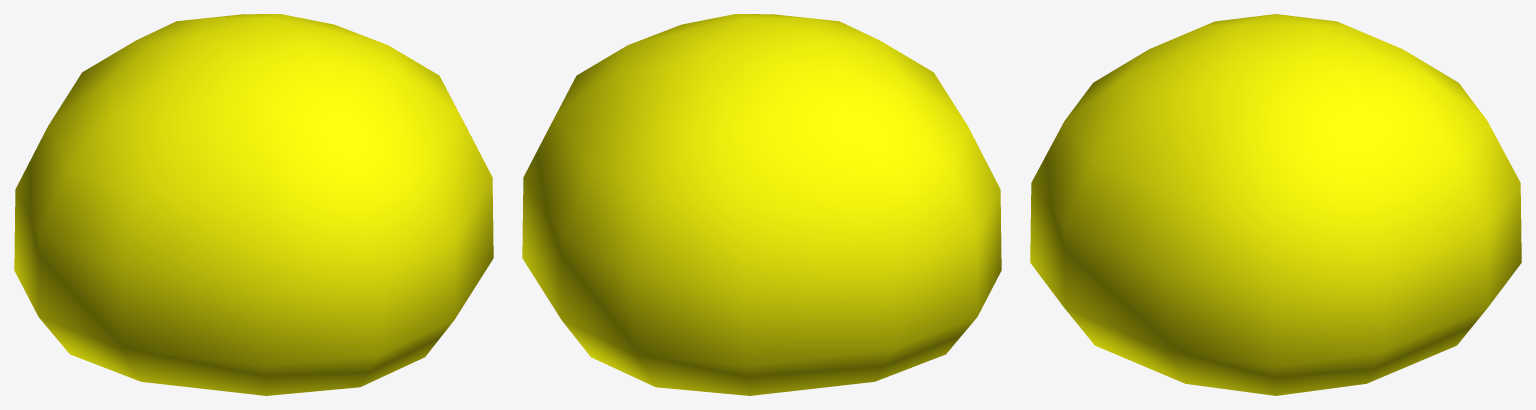
The model's file is kaykit-bush-1-b-color-1.glb.
3 renders of one model, left to right at view 1: azimuth 30°, elevation 25°; view 2: azimuth 150°, elevation 25°; view 3: azimuth 270°, elevation 25°, orthographic.
Visible parts, largest first — view 1: Bush_1_B_Color1; view 2: Bush_1_B_Color1; view 3: Bush_1_B_Color1.
Boxes of the visible parts, left/top/right/bottom form: Bush_1_B_Color1: left=14, top=14, right=493, bottom=395; Bush_1_B_Color1: left=522, top=14, right=1001, bottom=395; Bush_1_B_Color1: left=1030, top=14, right=1521, bottom=395.
Size of the model in its own units: 0.7224 by 0.4841 by 0.7224.
